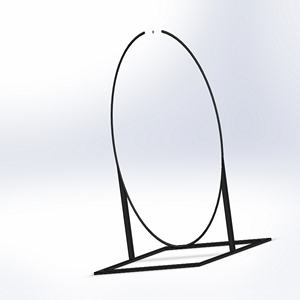circle: (93, 26, 273, 275)
